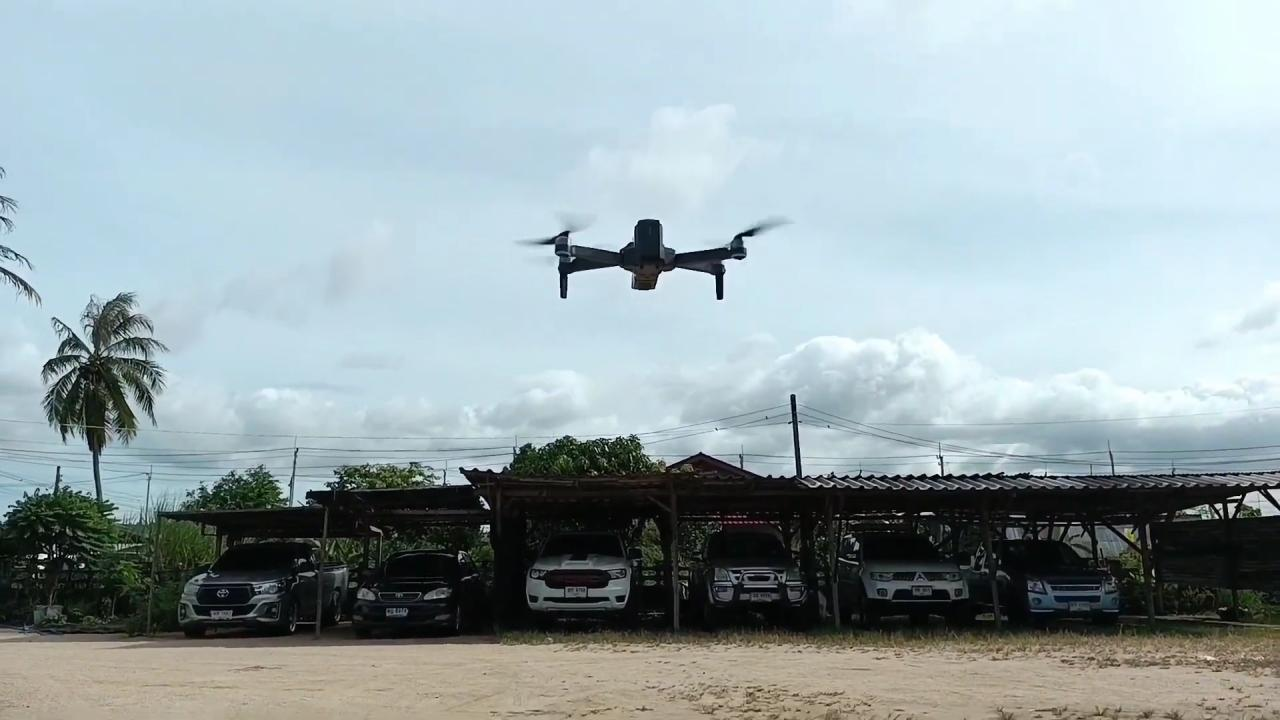Drone: (507, 207, 799, 312)
